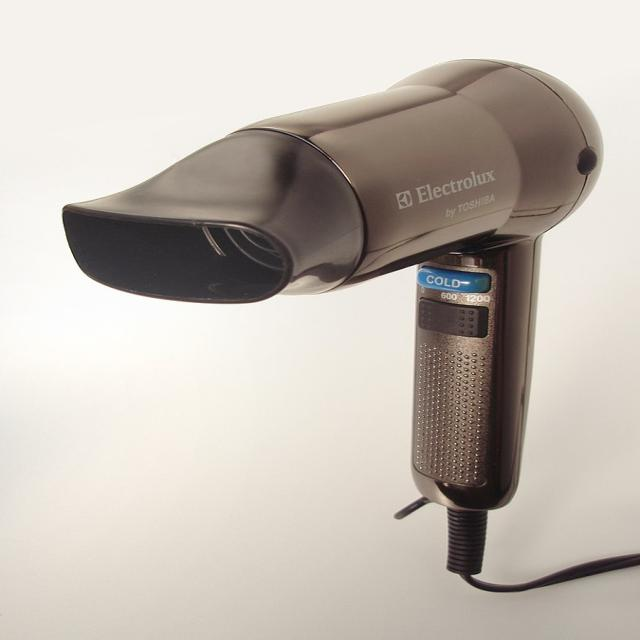dryer: (62, 57, 607, 576)
